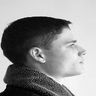ear: (24, 42, 51, 69)
